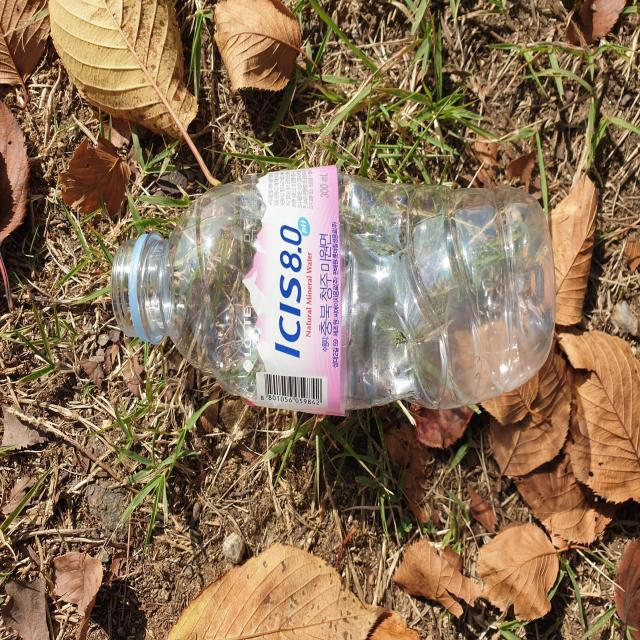plastic: (111, 165, 557, 415)
